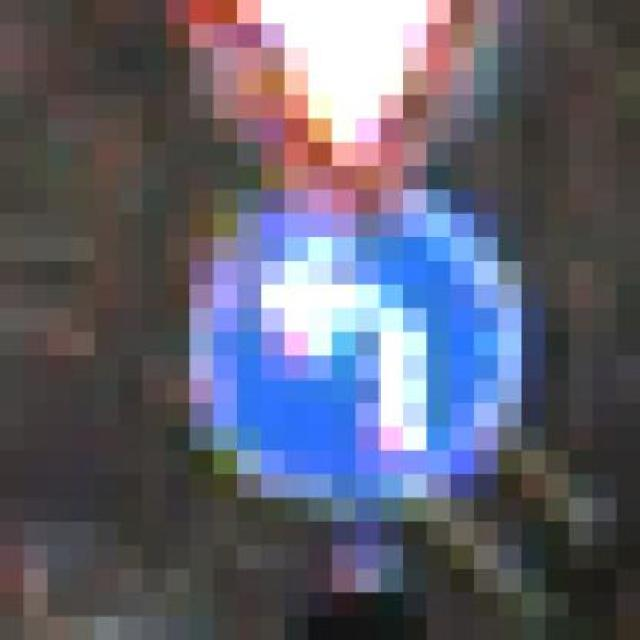Turn left ahead: (142, 166, 546, 522)
